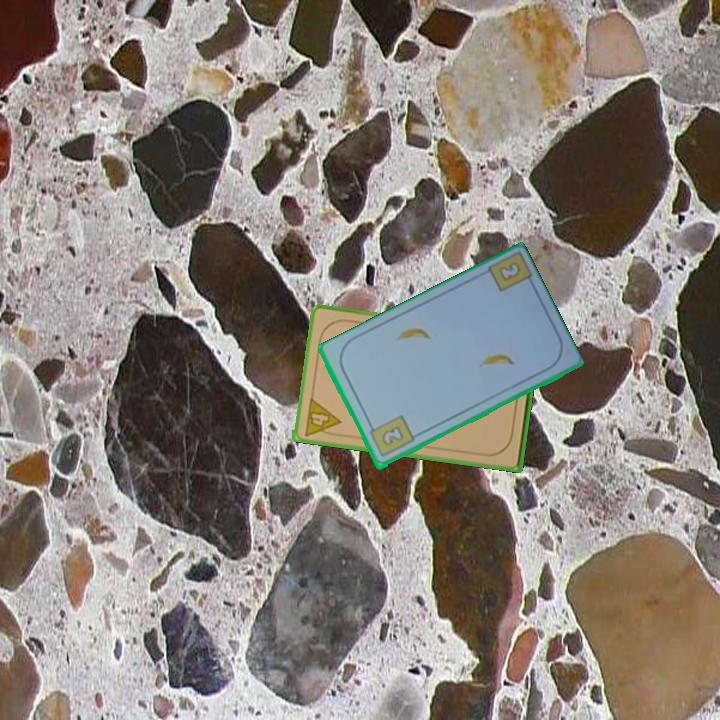2b: (365, 412, 417, 460), (495, 258, 523, 285)
4p: (301, 394, 343, 439)
